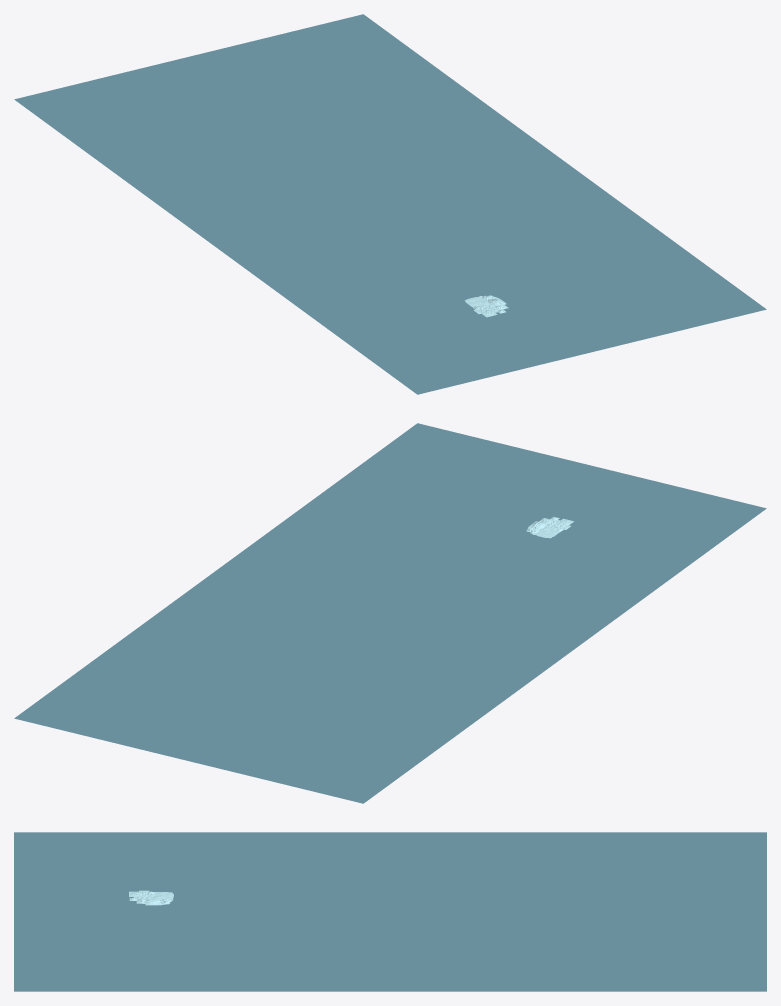
The model's file is montanha16abril.fbx.
3 views of the same model, one above another, from view 1: azimuth 30°, elevation 25°; view 2: azimuth 150°, elevation 25°; view 3: azimuth 270°, elevation 25° (orthographic). The views are drawn at different scales.
Visible parts, largest first — view 1: Chão_1; view 2: Chão_1; view 3: Chão_1.
Boxes of the visible parts, <box> form: Chão_1: <box>14,14,766,394</box>; Chão_1: <box>14,423,766,803</box>; Chão_1: <box>14,832,766,991</box>.
Bounding box in the file's own units: 50000 × 392 × 100000.
